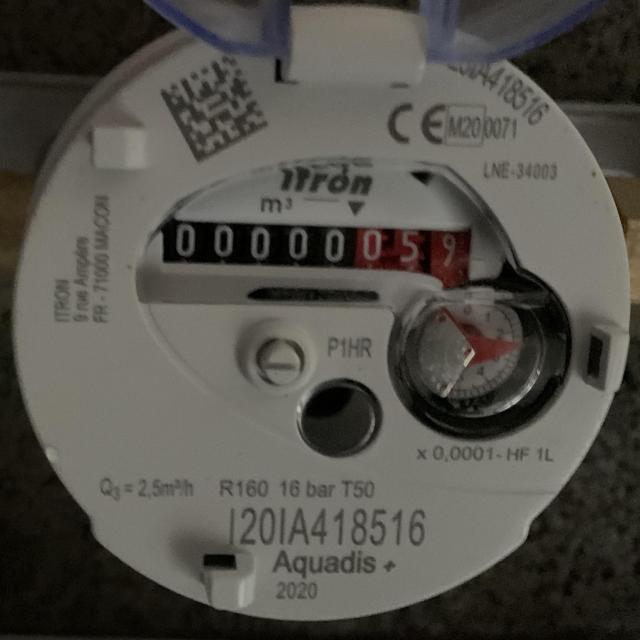gaz_meter: (12, 6, 625, 624)
indication: (158, 215, 472, 279)
